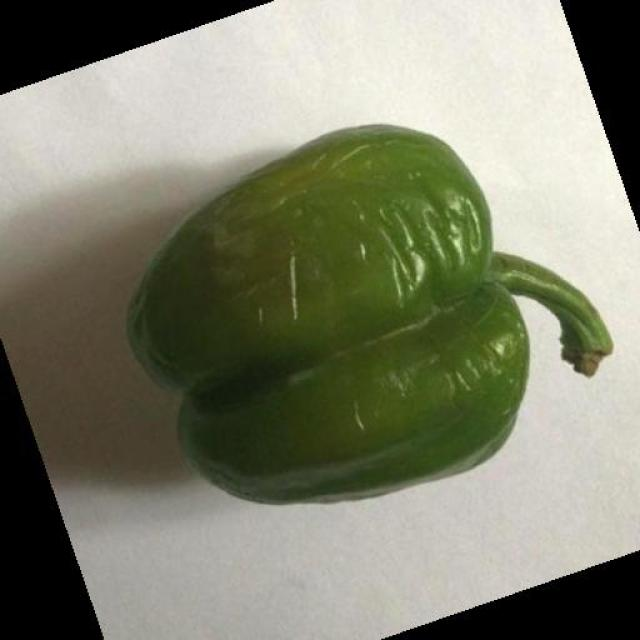Stale_Capsicum: (124, 164, 584, 497)
